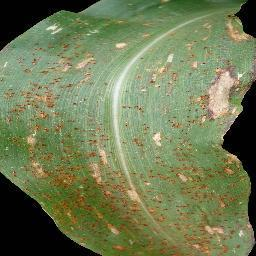Corn_Common_Rust: (0, 9, 160, 256), (162, 12, 256, 256)
